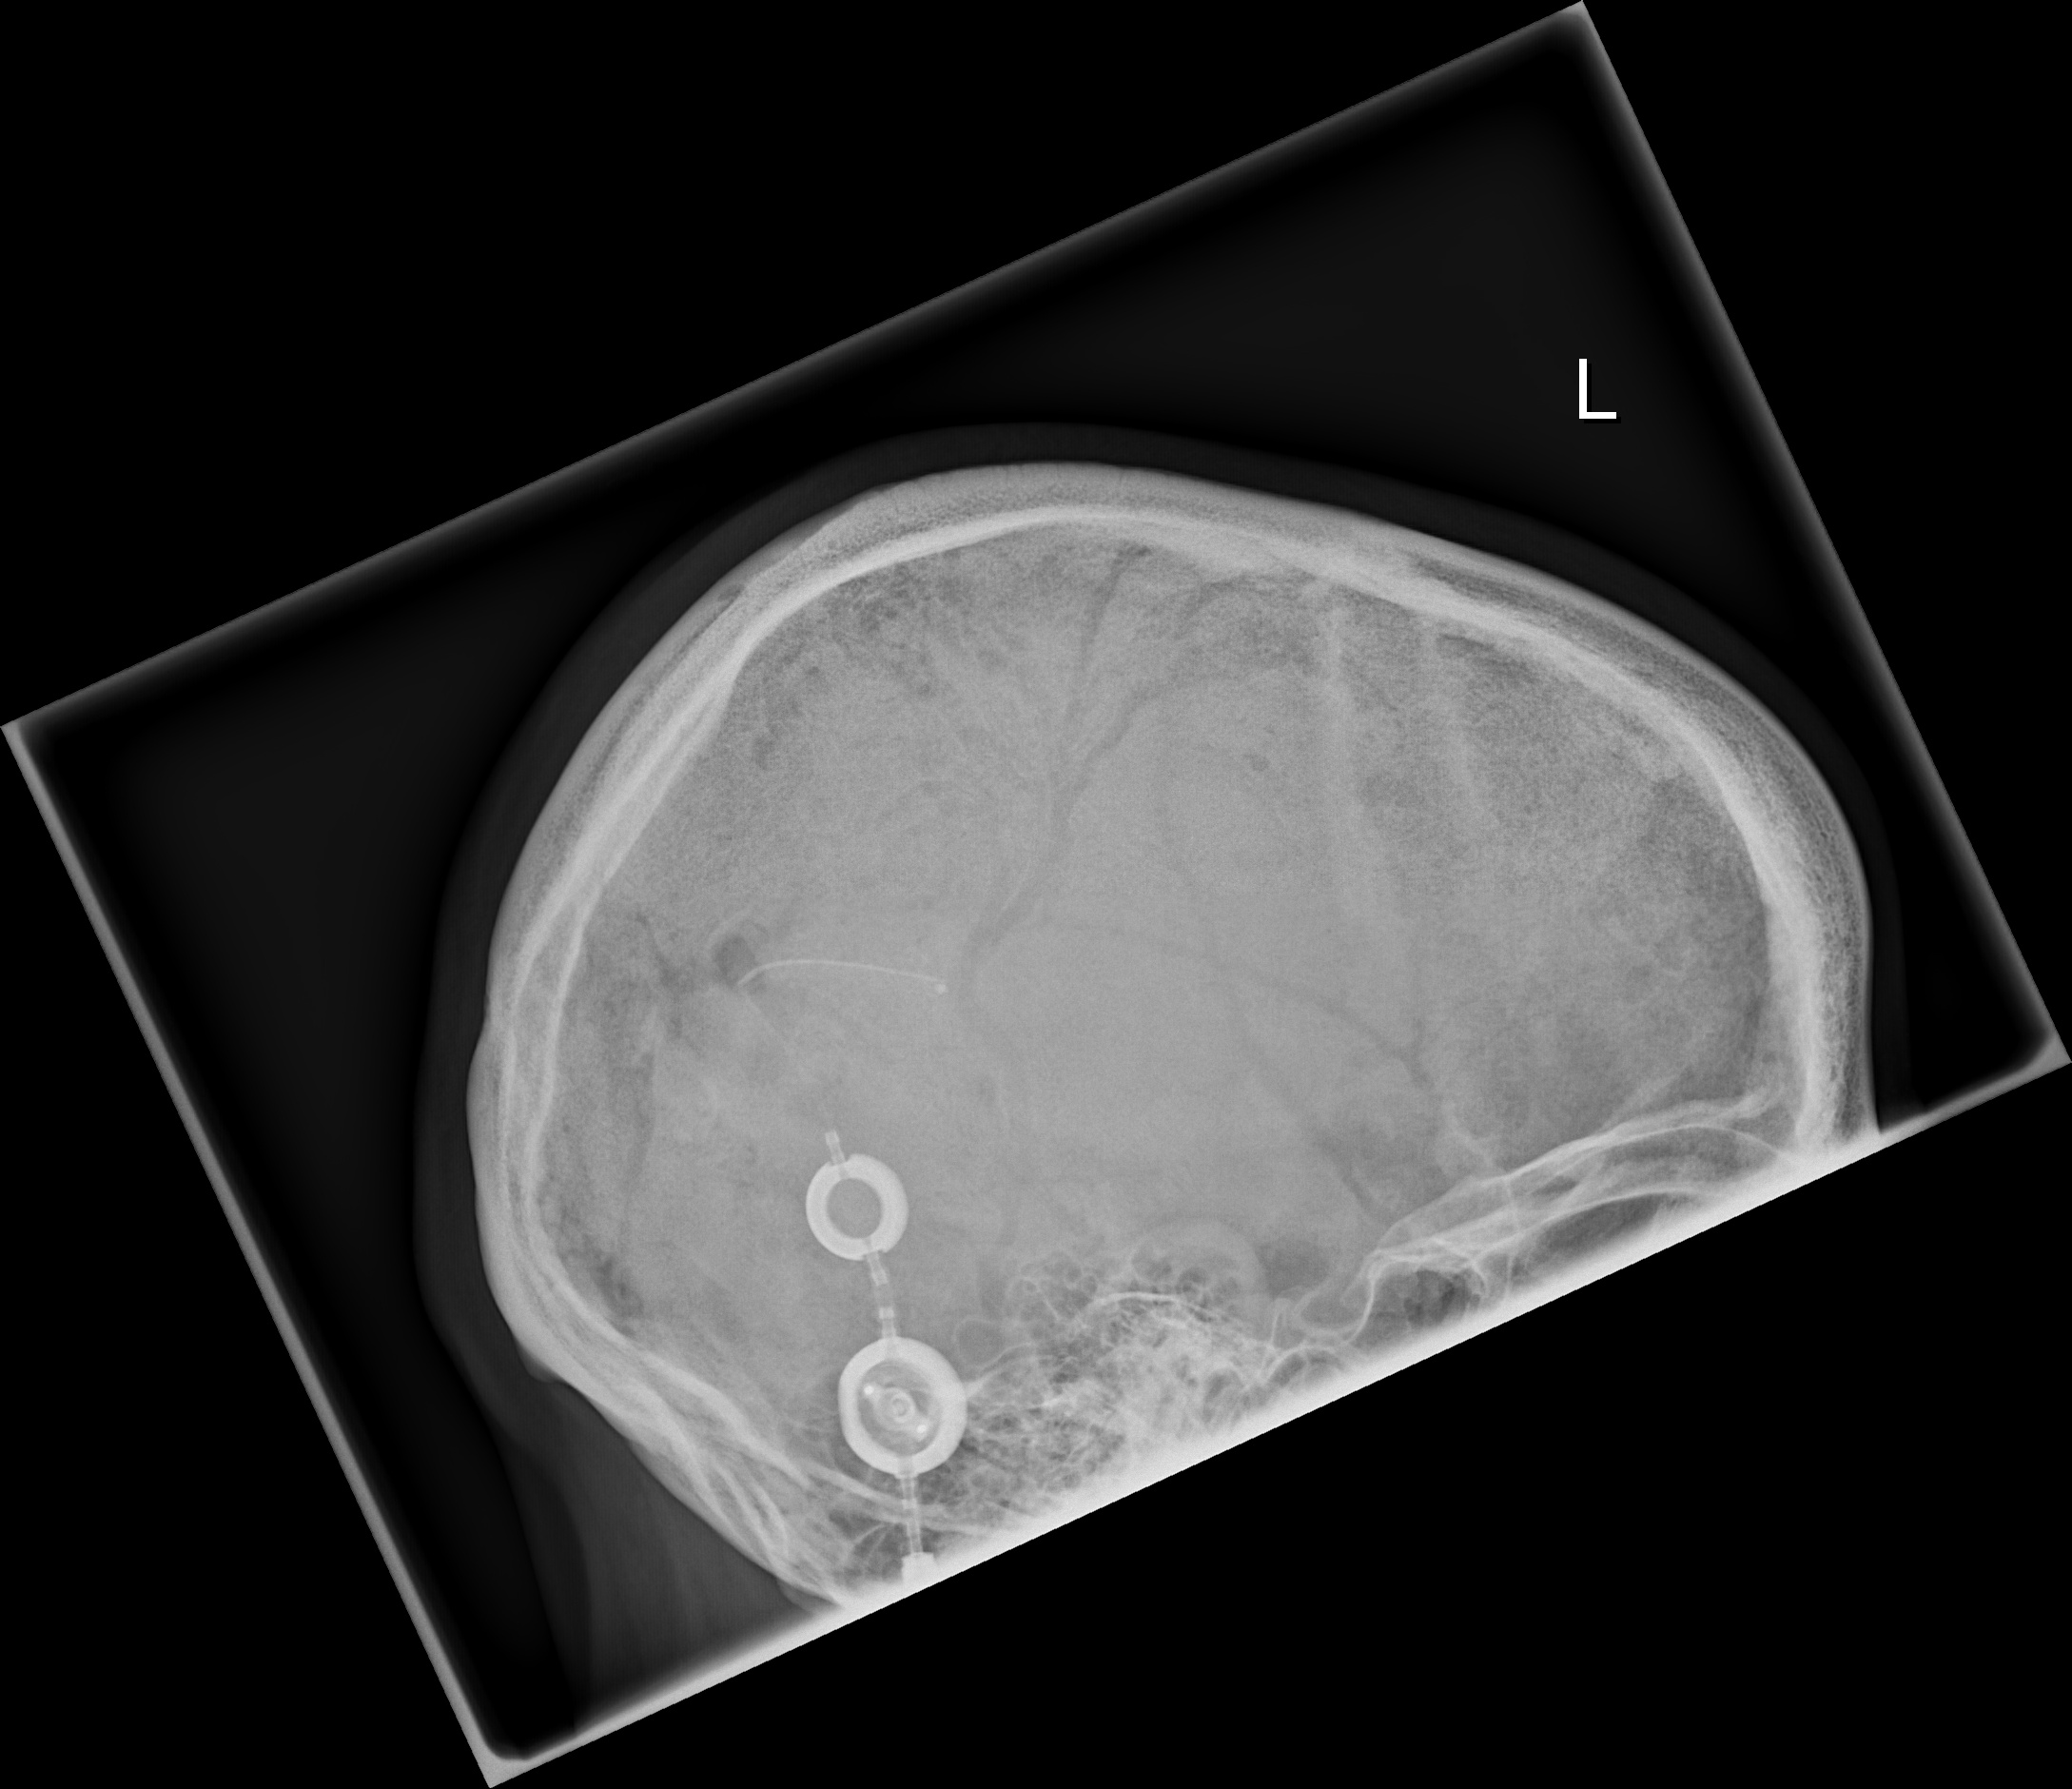proGAV: (830, 1329, 973, 1479)
